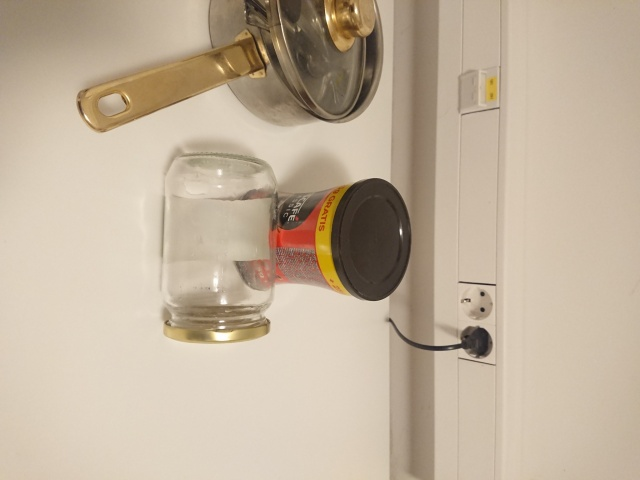Nescafe Classic 225g: (229, 175, 415, 303)
